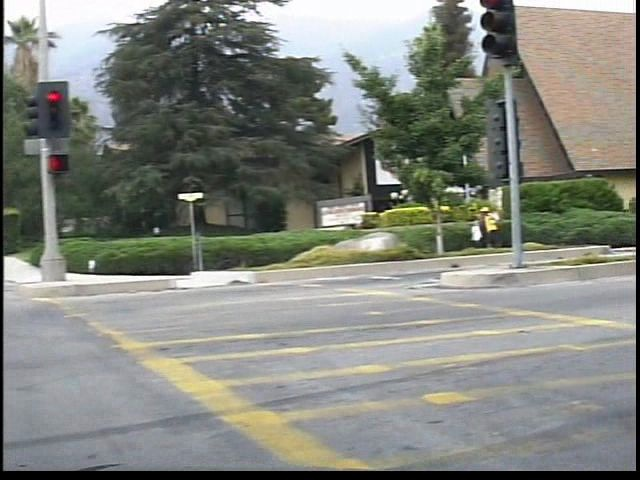person: (491, 197, 515, 252)
